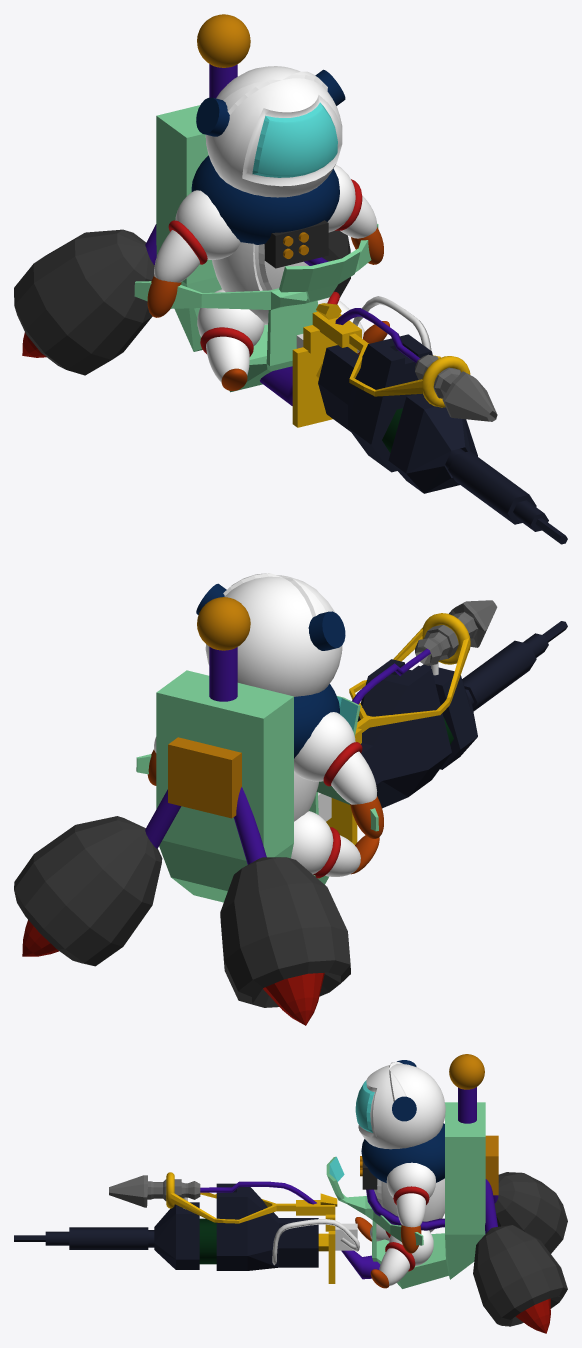
The model's file is Character2.FBX.
The picture shows the model from 3 angles, top to bottom: view 1: azimuth 30°, elevation 25°; view 2: azimuth 150°, elevation 25°; view 3: azimuth 270°, elevation 25°; orthographic projection. The views are drawn at different scales.
Visible parts, largest first — view 1: RightThruster, Pack, Head, LazerGunFrontPump, GunBase, Neck, LazerGunSightSupport, GunSupport, Body, LazerSight, RightShoulder, AntenaCap (+13 smaller); view 2: Pack, RightThruster, RightThruster001, Head, GunBase, LazerGunFrontPump, PackAttach, LazerGunSightSupport, LazerSight, RightShoulder, AntenaCap, RightThigh (+10 smaller); view 3: Pack, RightThruster001, GunBase, Head, LazerGunFrontPump, RightThruster, Neck, LazerGunSightSupport, LazerSight, LeftShoulder, Body, AntenaCap (+14 smaller).
Part boxes in pixels (x1,y1,x2,y2): RightThruster: (14, 224, 156, 375); Pack: (134, 105, 378, 392); Head: (205, 66, 342, 197); LazerGunFrontPump: (388, 393, 567, 544); GunBase: (318, 334, 432, 472); Neck: (191, 155, 339, 244); LazerGunSightSupport: (312, 303, 470, 407); GunSupport: (292, 325, 357, 427); Body: (212, 242, 308, 324); LazerSight: (415, 354, 497, 421); RightShoulder: (175, 190, 240, 259); AntenaCap: (197, 14, 250, 67); Pack: (136, 670, 378, 902); RightThruster: (220, 787, 350, 1025); RightThruster001: (14, 789, 181, 966); Head: (205, 573, 342, 696); GunBase: (357, 659, 451, 808); LazerGunFrontPump: (421, 621, 567, 769); PackAttach: (168, 737, 241, 818); LazerGunSightSupport: (349, 613, 470, 743); LazerSight: (415, 600, 497, 665); RightShoulder: (294, 712, 355, 781); AntenaCap: (197, 597, 250, 650); RightThigh: (291, 811, 333, 874); Pack: (326, 1102, 485, 1288); RightThruster001: (473, 1179, 567, 1333); GunBase: (216, 1183, 318, 1270); Head: (355, 1062, 445, 1149); LazerGunFrontPump: (14, 1202, 199, 1269); RightThruster: (493, 1172, 567, 1253); Neck: (361, 1123, 444, 1182); LazerGunSightSupport: (166, 1172, 337, 1223); LazerSight: (109, 1175, 200, 1207); LeftShoulder: (386, 1162, 435, 1197); Body: (374, 1178, 444, 1232); AntenaCap: (449, 1054, 484, 1089).
Size of the model in its own units: 40.2 by 41.97 by 88.97.
